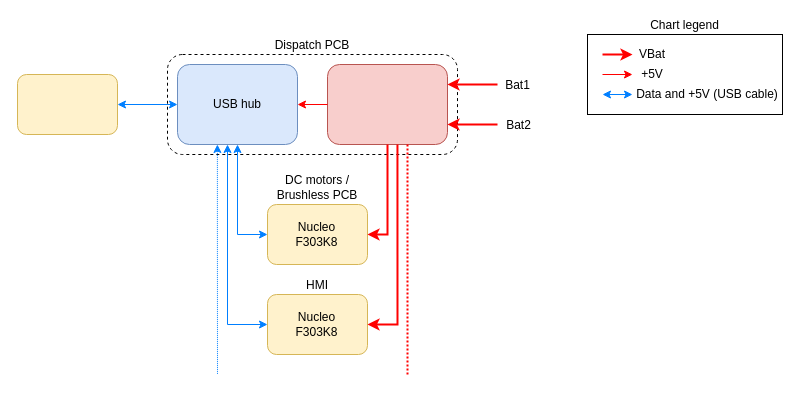
Image size: 800x400. Some labels were removed from this diagram. The shapes that lost their labels are listed below. From the top down, each one's centre as x and y in pixels, then its label:
At (x=67, y=104): "LattePanda".
At (x=387, y=104): "Power Dispatch".
